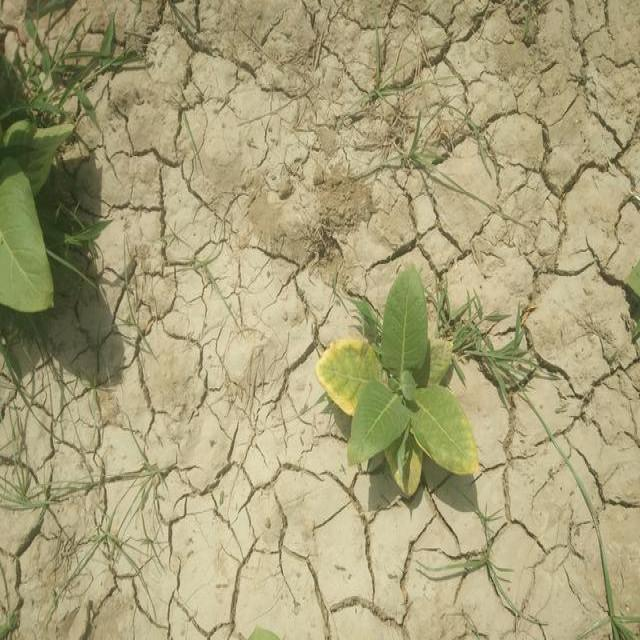crop: (312, 262, 484, 504)
